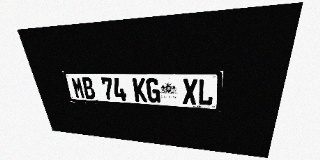4: (112, 78, 127, 101)
7: (100, 77, 115, 100)
B: (81, 77, 96, 99)
G: (146, 78, 160, 103)
K: (132, 78, 147, 102)
L: (197, 79, 214, 106)
M: (70, 77, 86, 99)
X: (182, 79, 198, 105)
